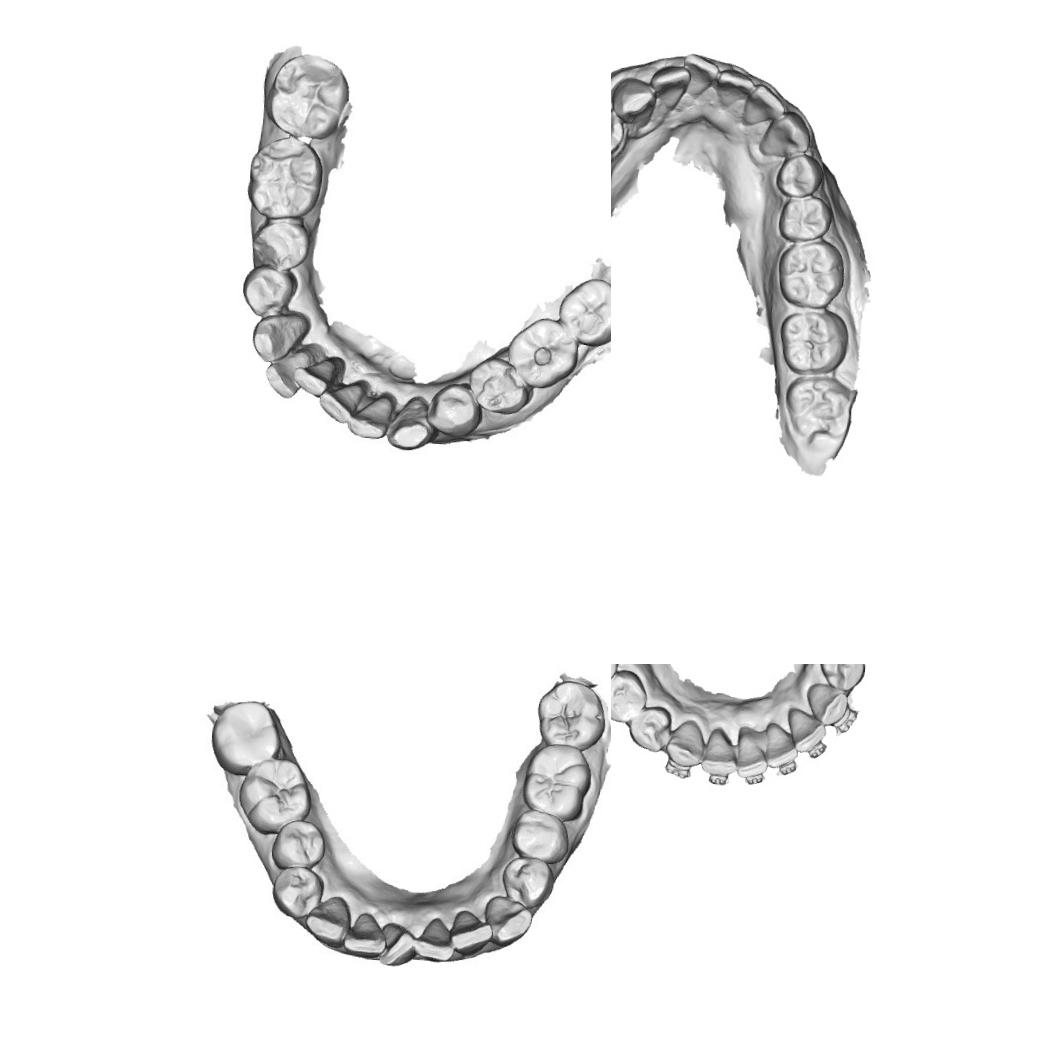canine: (385, 393, 441, 452), (250, 310, 311, 364), (480, 893, 536, 950), (756, 106, 813, 160), (302, 891, 350, 949), (611, 74, 656, 130), (802, 680, 852, 728), (663, 716, 708, 769)
incisor: (406, 912, 460, 968), (444, 908, 496, 961), (262, 347, 312, 400), (740, 79, 788, 129), (339, 908, 387, 958), (344, 393, 394, 440), (698, 723, 740, 778), (782, 704, 828, 754), (647, 62, 692, 113), (374, 916, 415, 969), (760, 718, 801, 771), (729, 728, 770, 780), (316, 380, 364, 424), (712, 65, 755, 113), (680, 51, 720, 101), (290, 357, 337, 398)
molar: (262, 50, 352, 141), (243, 133, 325, 223), (234, 752, 316, 839), (206, 695, 284, 779), (518, 739, 593, 823), (504, 314, 580, 390), (779, 371, 856, 445), (533, 676, 607, 752), (773, 238, 849, 311), (775, 306, 850, 376), (554, 275, 611, 349)
premolar: (466, 354, 534, 416), (266, 814, 329, 872), (507, 806, 570, 863), (248, 216, 312, 272), (423, 380, 484, 438), (239, 261, 299, 319), (269, 861, 326, 922), (498, 853, 554, 911), (775, 193, 835, 244), (772, 150, 826, 198), (625, 702, 674, 754), (611, 665, 649, 725), (816, 664, 867, 693), (611, 104, 627, 157)
